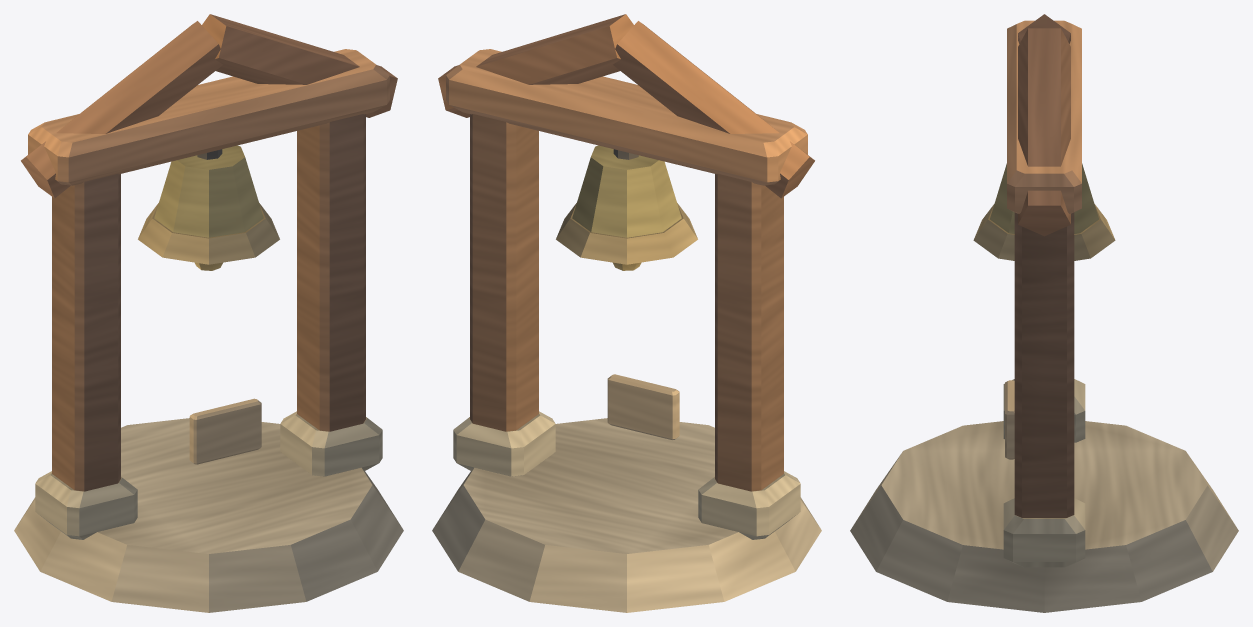
File: waybell.glb
The picture shows the model from 3 angles, left to right: view 1: azimuth 30°, elevation 25°; view 2: azimuth 150°, elevation 25°; view 3: azimuth 270°, elevation 25°; orthographic projection.
Visible parts, largest first — view 1: Wegglocke; view 2: Wegglocke; view 3: Wegglocke.
Part boxes in pixels (box(x1,y1,x2,y2)): Wegglocke: box(14, 14, 403, 612); Wegglocke: box(432, 14, 821, 612); Wegglocke: box(850, 14, 1238, 612).
Bounding box in the file's own units: 1.33 × 1.8 × 1.24.
2 materials, 2 textured.
